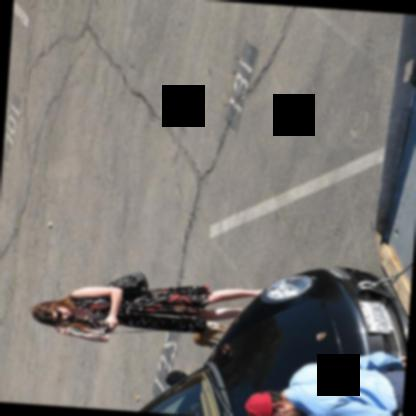handbag: (109, 268, 150, 295)
